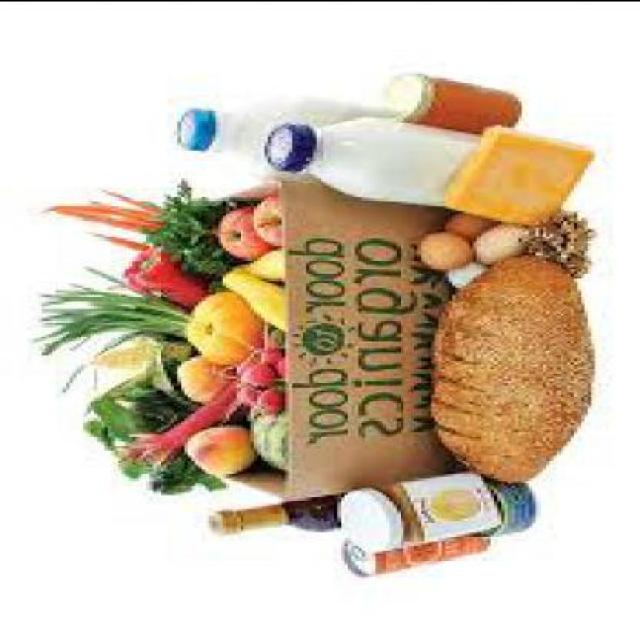BIODEGRADABLE: (424, 248, 590, 480), (27, 263, 182, 389), (80, 384, 226, 488), (112, 372, 233, 463), (139, 177, 244, 277), (181, 288, 261, 359), (121, 244, 202, 302), (216, 263, 282, 326), (522, 210, 588, 272), (181, 421, 250, 470), (147, 342, 196, 403), (212, 201, 268, 254), (86, 338, 185, 365), (49, 205, 160, 228), (174, 354, 229, 398), (247, 407, 288, 465), (87, 195, 167, 223), (469, 220, 522, 262), (415, 228, 473, 266), (101, 186, 170, 214), (42, 202, 160, 216), (442, 207, 491, 238), (251, 188, 278, 242), (237, 245, 278, 277), (445, 259, 484, 283), (94, 228, 146, 244), (240, 361, 271, 384), (251, 385, 278, 409), (250, 340, 275, 358), (232, 350, 251, 372), (229, 384, 251, 402), (270, 351, 282, 372)
CARDBOARD: (272, 172, 462, 494)
GLASS: (302, 115, 476, 207), (209, 97, 400, 168), (372, 468, 498, 542), (411, 72, 518, 128), (208, 492, 334, 528)
METAL: (337, 531, 491, 572), (476, 477, 529, 534), (261, 121, 313, 168), (166, 107, 212, 147)
